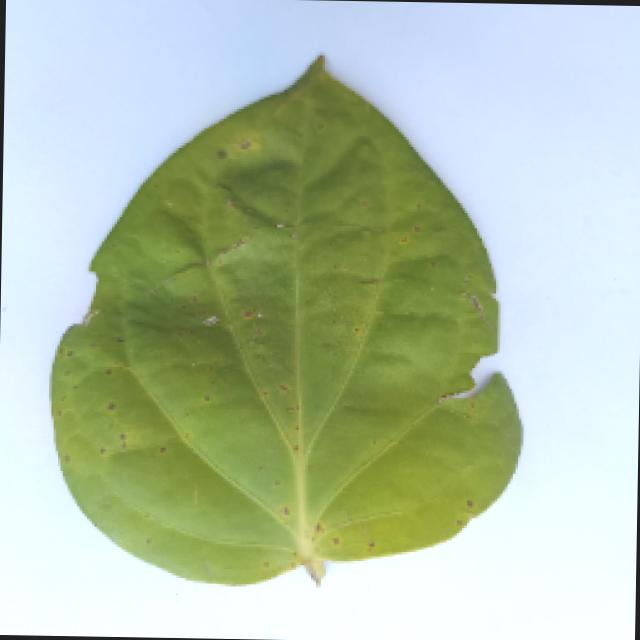slow-decline: (33, 60, 562, 601)
